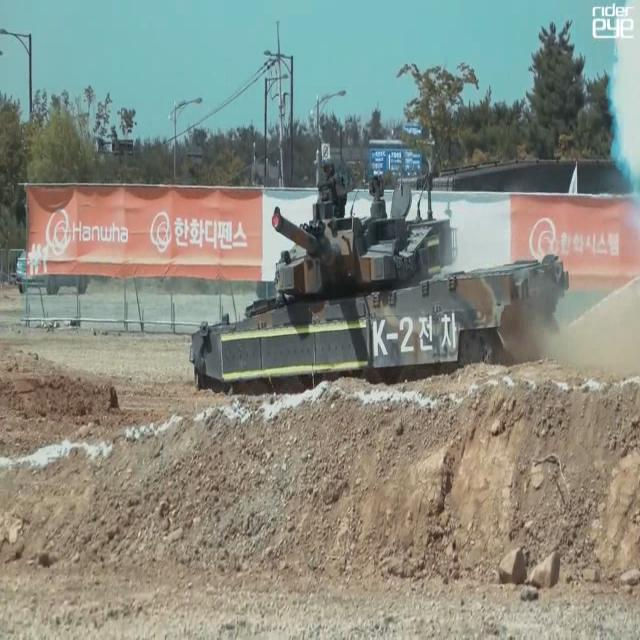korea tank: (187, 153, 571, 402)
